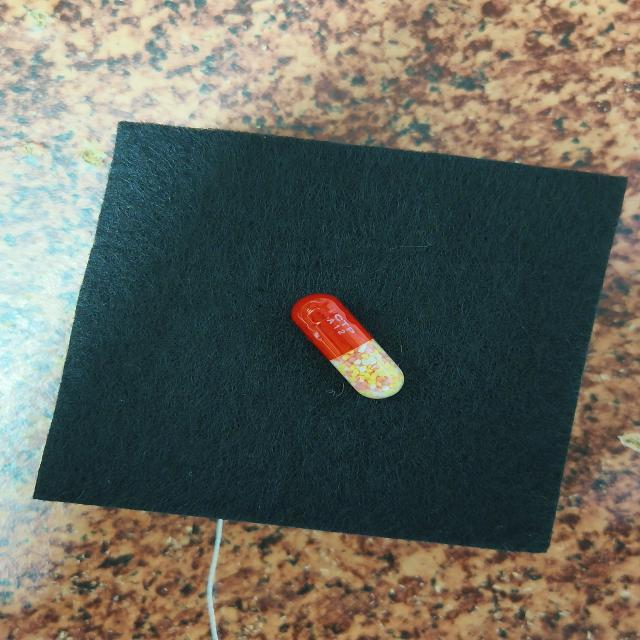Intact Capsule: (291, 294, 404, 399)
